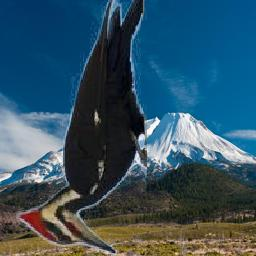Woodpecker: (13, 1, 147, 256)
